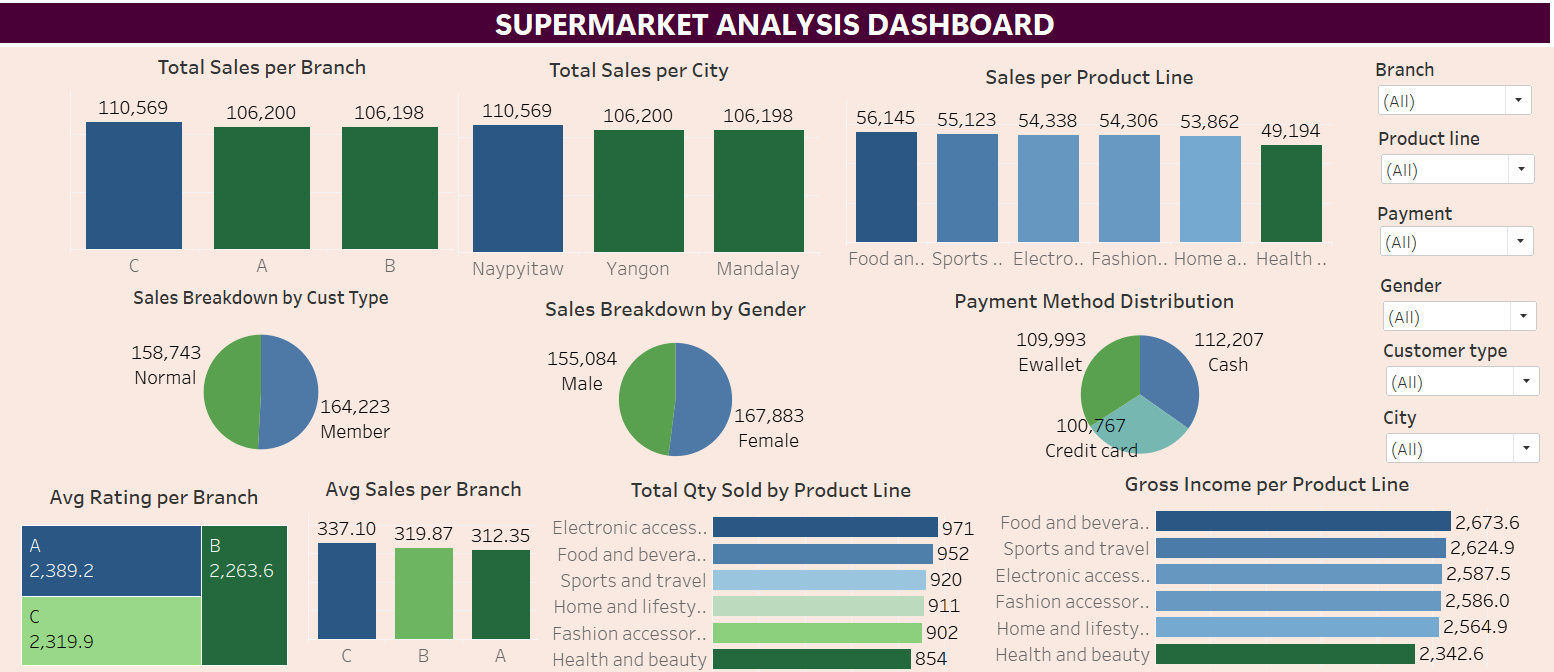

Layout of this report page (visuals, bound fields, positions):
{"tool":"tableau","page":{"name":"Sales Dashboard","canvas":[1000,1000],"units":"permille","ordinal":0},"visuals":[{"type":"title","box":[5.1,11.6,989.8,69.4]},{"type":"worksheet","title":"Total Sales per Branch","mark":"Bar","rows":["Total"],"cols":["Branch"],"box":[52.7,82.4,243.8,332.4]},{"type":"worksheet","title":"Total Sales per City","mark":"Automatic","rows":["Total"],"cols":["City"],"box":[299.1,86.7,229.8,332.4]},{"type":"filter","title":"Total Sales per Branch","param":"[federated.1yohw9e0op5uvd16asqji1g9ichw].[none:Branch:nk]","box":[881.3,93.9,101.6,118.5]},{"type":"worksheet","title":"Sales per Product Line","mark":"Automatic","rows":["Total"],"cols":["Product line"],"box":[545.4,96.8,309.2,323.7]},{"type":"filter","title":"Sales per Product Line","param":"[federated.1yohw9e0op5uvd16asqji1g9ichw].[none:Product line:nk]","box":[883.2,193.6,101.6,114.2]},{"type":"filter","title":"Payment Method Distribution","param":"[federated.1yohw9e0op5uvd16asqji1g9ichw].[none:Payment:nk]","box":[882.5,302,101.6,82.4]},{"type":"filter","title":"Sales Breakdown by Gender","param":"[federated.1yohw9e0op5uvd16asqji1g9ichw].[none:Gender:nk]","box":[884.4,406.1,101.6,89.6]},{"type":"worksheet","title":"Sales Breakdown Cust Type","mark":"Pie","box":[54.7,417.5,238.7,266.3]},{"type":"worksheet","title":"Payment Method Distribution","mark":"Pie","box":[611.4,420.5,241.3,263]},{"type":"worksheet","title":"Sales Breakdown by Gender","mark":"Pie","box":[342.9,432.1,188.6,254.3]},{"type":"filter","title":"Sales Breakdown Cust Type","param":"[federated.1yohw9e0op5uvd16asqji1g9ichw].[none:Customer type:nk]","box":[886.4,500,101.6,89.6]},{"type":"filter","title":"Total Sales per City","param":"[federated.1yohw9e0op5uvd16asqji1g9ichw].[none:City:nk]","box":[886.4,596.8,101.6,92.5]},{"type":"worksheet","title":"Gross Income per Product Line","mark":"Automatic","rows":["Product line"],"cols":["gross income"],"box":[640,685,345.4,291.9]},{"type":"worksheet","title":"Avg Sales per Branch","mark":"Automatic","rows":["Calculation_147211453106556928"],"cols":["Branch"],"box":[203.7,692.1,146.4,285.7]},{"type":"worksheet","title":"Total Qty Sold Product Line","mark":"Automatic","rows":["Product line"],"cols":["Quantity"],"box":[358.7,693.6,278.1,290.5]},{"type":"worksheet","title":"Avg Rating per Branch","mark":"Automatic","box":[19.1,703.2,173.8,277.4]}]}

Visuals, with their boxes on the dashboard's canvas, which has no fixed pixel size, in thousandths of its width and height (x1, y1, x2, y2). These are canvas units, not pixel positions in the 1554x672 screenshot, which may show the page scaled, cropped or inside an application window:
title: crop(5, 12, 995, 81)
"Total Sales per Branch" worksheet (Bar marks): crop(53, 82, 296, 415)
"Total Sales per City" worksheet: crop(299, 87, 529, 419)
"Total Sales per Branch" filter: crop(881, 94, 983, 212)
"Sales per Product Line" worksheet: crop(545, 97, 855, 420)
"Sales per Product Line" filter: crop(883, 194, 985, 308)
"Payment Method Distribution" filter: crop(882, 302, 984, 384)
"Sales Breakdown by Gender" filter: crop(884, 406, 986, 496)
"Sales Breakdown Cust Type" worksheet (Pie marks): crop(55, 418, 293, 684)
"Payment Method Distribution" worksheet (Pie marks): crop(611, 420, 853, 684)
"Sales Breakdown by Gender" worksheet (Pie marks): crop(343, 432, 532, 686)
"Sales Breakdown Cust Type" filter: crop(886, 500, 988, 590)
"Total Sales per City" filter: crop(886, 597, 988, 689)
"Gross Income per Product Line" worksheet: crop(640, 685, 985, 977)
"Avg Sales per Branch" worksheet: crop(204, 692, 350, 978)
"Total Qty Sold Product Line" worksheet: crop(359, 694, 637, 984)
"Avg Rating per Branch" worksheet: crop(19, 703, 193, 981)
